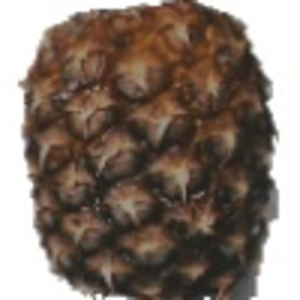abacaxi: (16, 2, 289, 291)
